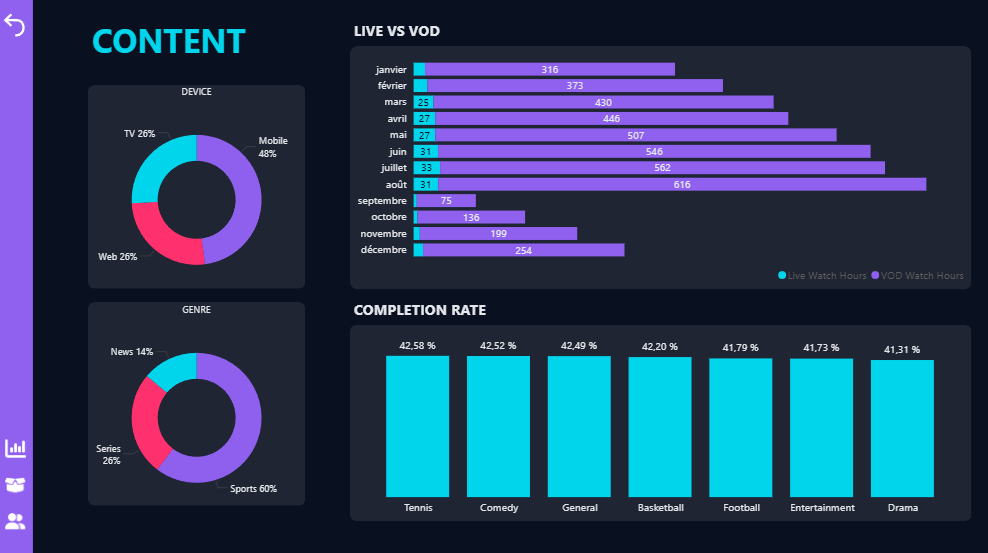

Layout of this report page (visuals, bound fields, positions):
{"tool":"powerbi","page":{"name":"Content","canvas":[1280,720],"ordinal":1},"visuals":[{"type":"shape","title":"Left Nav Background","box":[0,0,45,720],"z":0},{"type":"actionButton","title":"Overview","box":[5,561.7,35,35],"z":0,"group":"g1"},{"type":"actionButton","box":[1.7,10,40,45],"z":1000},{"type":"textbox","box":[115.7,18.6,227.1,70],"z":2000},{"type":"actionButton","title":"Content","box":[5,609.4,34,34],"z":2000,"group":"g1"},{"type":"textbox","box":[454.3,22.9,200,37.1],"z":3000},{"type":"actionButton","title":"Acquisition","box":[5,656,34,34],"z":3000,"group":"g1"},{"type":"textbox","box":[454.3,382.9,200,37.1],"z":4000},{"type":"group","id":"g1","title":"Navigation","box":[5,561.7,35,128.3],"z":5000},{"type":"group","id":"g2","title":"Groupe 1","box":[453.8,60,802,314.3],"z":6000},{"type":"group","id":"g3","title":"Groupe 2","box":[453.8,420,802,252.9],"z":7000},{"type":"group","id":"g4","title":"Groupe 3","box":[115.7,111.2,280.5,561.6],"z":8000},{"type":"shape","box":[116.2,111.2,280,262.5],"z":11000,"group":"g4"},{"type":"shape","box":[116.2,391.2,280,262.5],"z":12000,"group":"g4"},{"type":"donutChart","title":"DEVICE","fields":{"Category":["sessions.device"],"Y":["Measures Table.Watchtime_hr"]},"box":[115.7,111.4,280,280],"z":12250,"group":"g4"},{"type":"donutChart","title":"GENRE","fields":{"Category":["content.genre"],"Y":["Measures Table.Watchtime_hr"]},"box":[115.7,392.8,280,280],"z":12500,"group":"g4"},{"type":"shape","box":[453.8,60,801.2,313.8],"z":13000,"group":"g2"},{"type":"barChart","fields":{"Category":["date_dim.Début de mois.Variation.Hiérarchie de dates.Mois","date_dim.Début de mois.Variation.Hiérarchie de dates.Jour"],"Y":["Measures Table.Live Watch Hours","Measures Table.VOD Watch Hours"]},"box":[454.3,60,801.4,314.3],"z":13500,"group":"g2"},{"type":"shape","box":[453.8,420,801.2,252.5],"z":14000,"group":"g3"},{"type":"columnChart","fields":{"Category":["content.subgenre"],"Y":["Measures Table.Completion Rate"]},"box":[454.3,420,801.4,252.9],"z":14500,"group":"g3"}]}

Visuals, with their boxes in screenshot pixels (x1, y1, x2, y2), scaled from the page's 1280x720 canvas onto the 988x553 screenshot:
"Left Nav Background" shape: box=[0, 0, 35, 552]
"Overview" actionButton: box=[4, 431, 31, 458]
actionButton: box=[1, 8, 32, 42]
textbox: box=[89, 14, 265, 68]
"Content" actionButton: box=[4, 468, 30, 494]
textbox: box=[351, 18, 505, 46]
"Acquisition" actionButton: box=[4, 504, 30, 530]
textbox: box=[351, 294, 505, 323]
"Navigation" group: box=[4, 431, 31, 530]
"Groupe 1" group: box=[350, 46, 969, 287]
"Groupe 2" group: box=[350, 323, 969, 517]
"Groupe 3" group: box=[89, 85, 306, 517]
shape: box=[90, 85, 306, 287]
shape: box=[90, 300, 306, 502]
"DEVICE" donutChart: box=[89, 86, 305, 301]
"GENRE" donutChart: box=[89, 302, 305, 517]
shape: box=[350, 46, 969, 287]
barChart - date_dim.Début de mois.Variation.Hiérarchie de dates.Mois x date_dim.Début de mois.Variation.Hiérarchie de dates.Jour: box=[351, 46, 969, 287]
shape: box=[350, 323, 969, 517]
columnChart - content.subgenre x Measures Table.Completion Rate: box=[351, 323, 969, 517]
